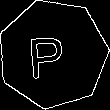P_N: (32, 27, 74, 81)
